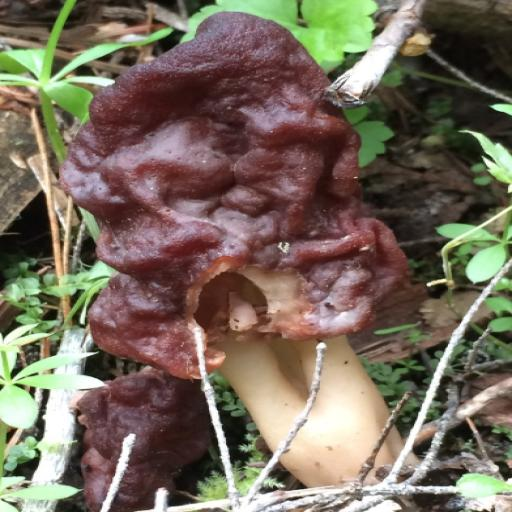False Morel: (10, 0, 459, 512)
